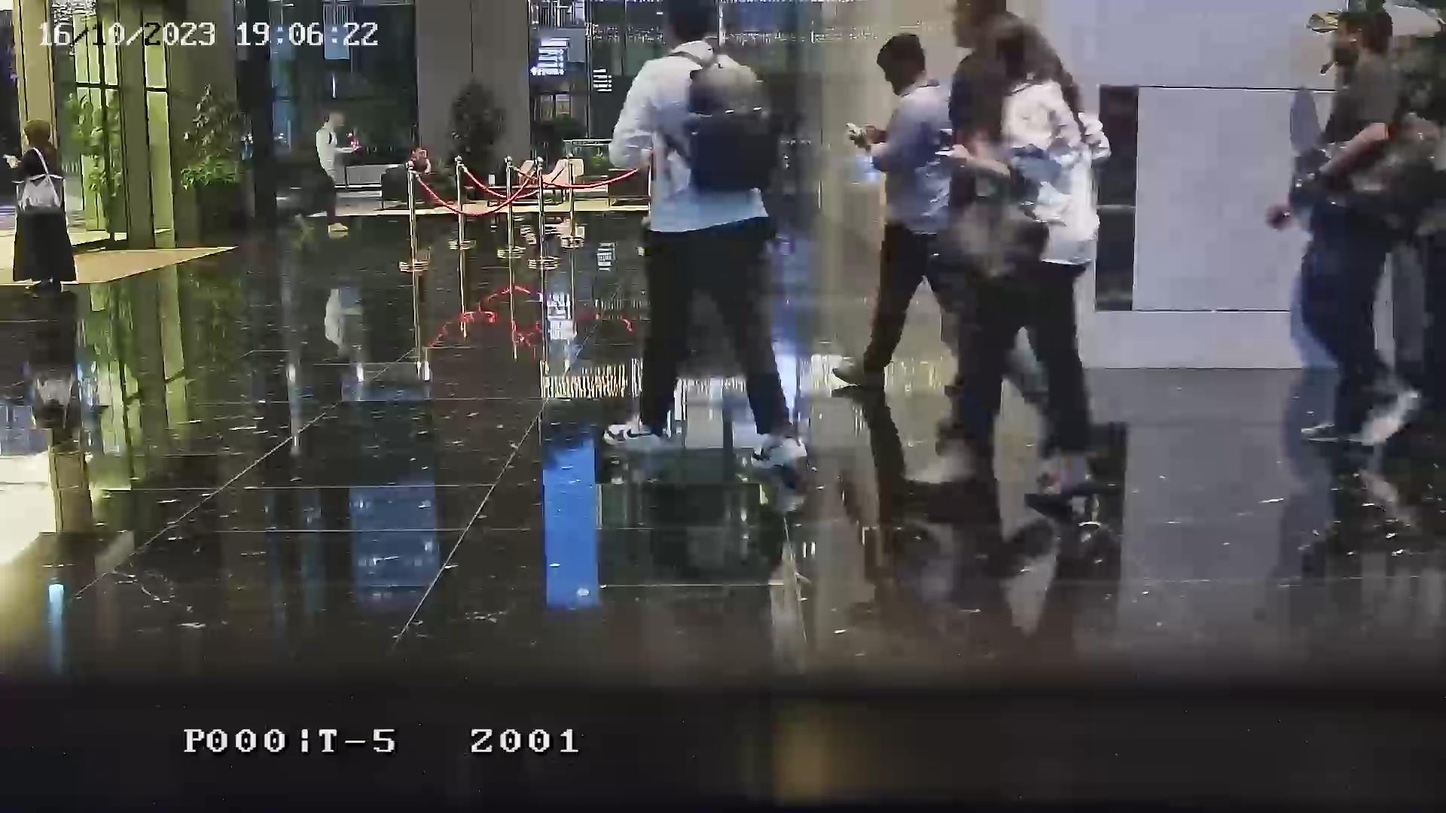person: (602, 3, 809, 465), (943, 2, 1111, 500), (1274, 9, 1444, 451), (831, 32, 965, 391), (11, 119, 78, 284), (316, 109, 362, 188), (405, 145, 433, 173)
